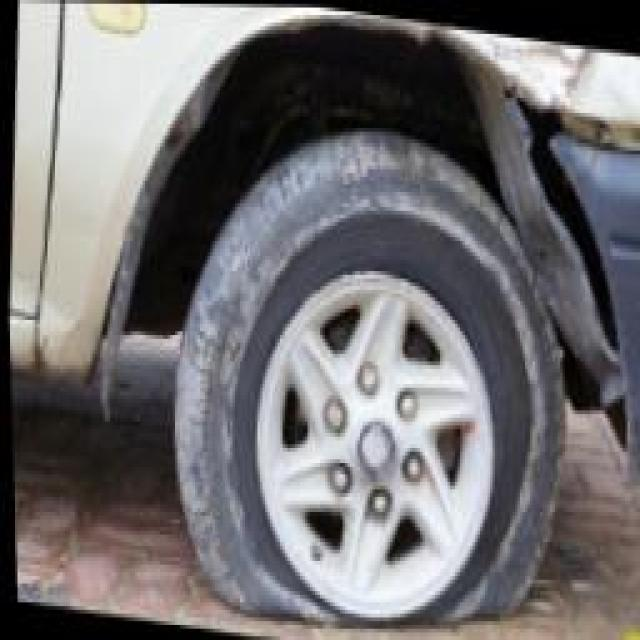Bumper: (525, 136, 640, 491)
Fender: (462, 26, 640, 139)
